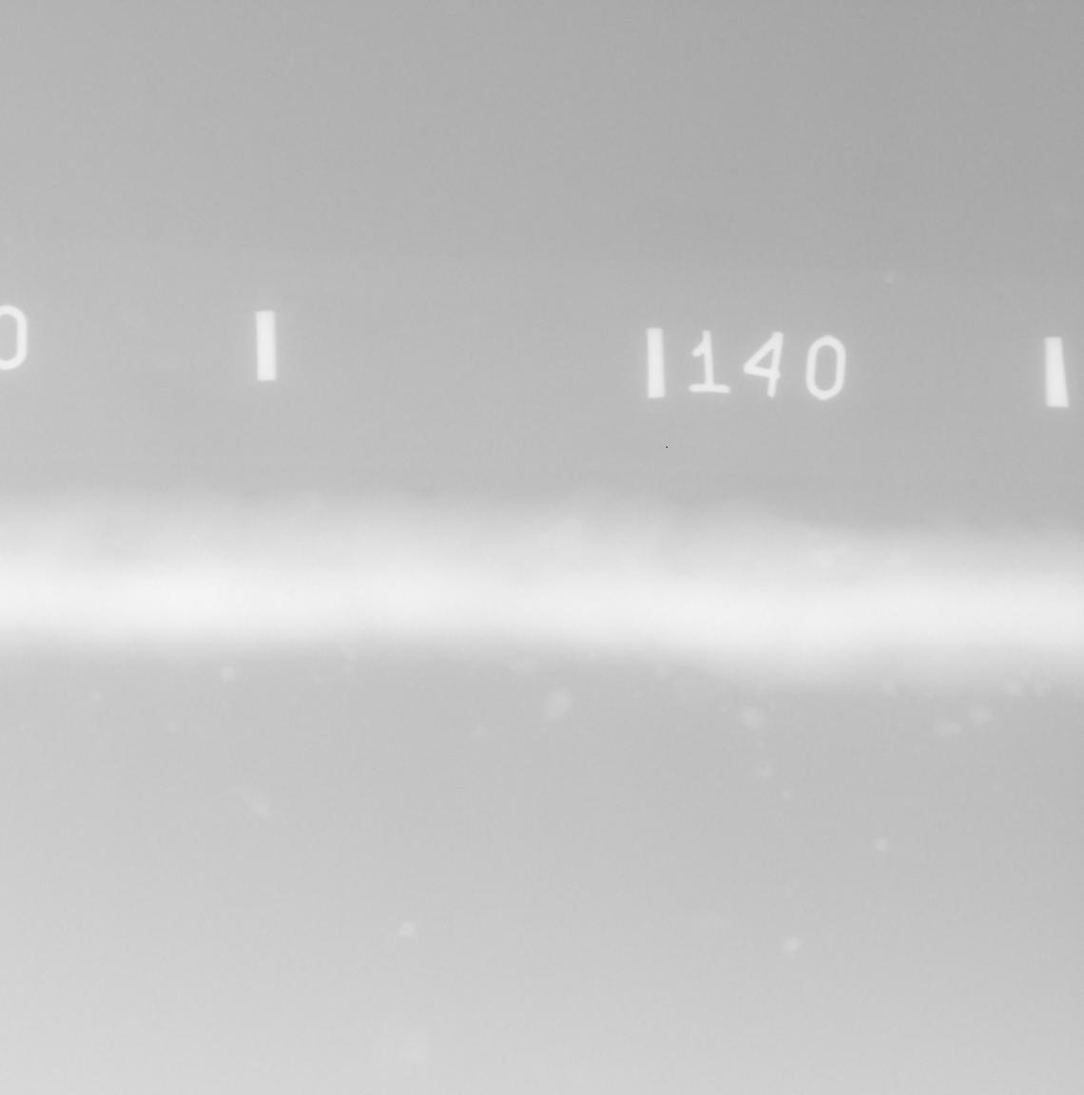Pore/Porosity: (289, 589, 296, 595)
Undercut: (415, 488, 433, 493), (244, 492, 258, 497)
